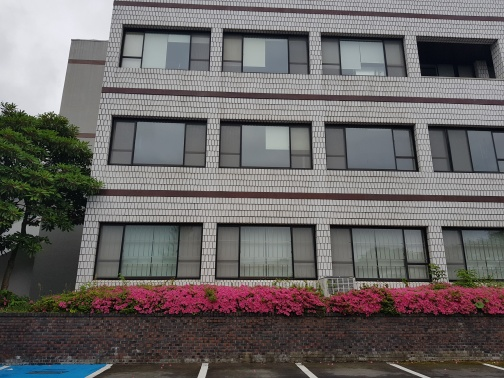Foreign Language Institute: (58, 20, 504, 324), (107, 99, 424, 182), (118, 14, 418, 91)
